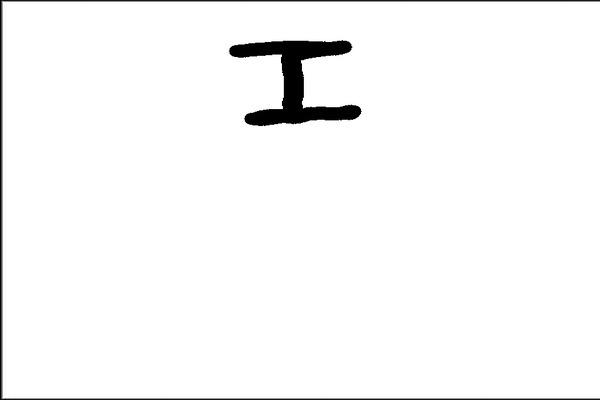i: (221, 27, 366, 137)
